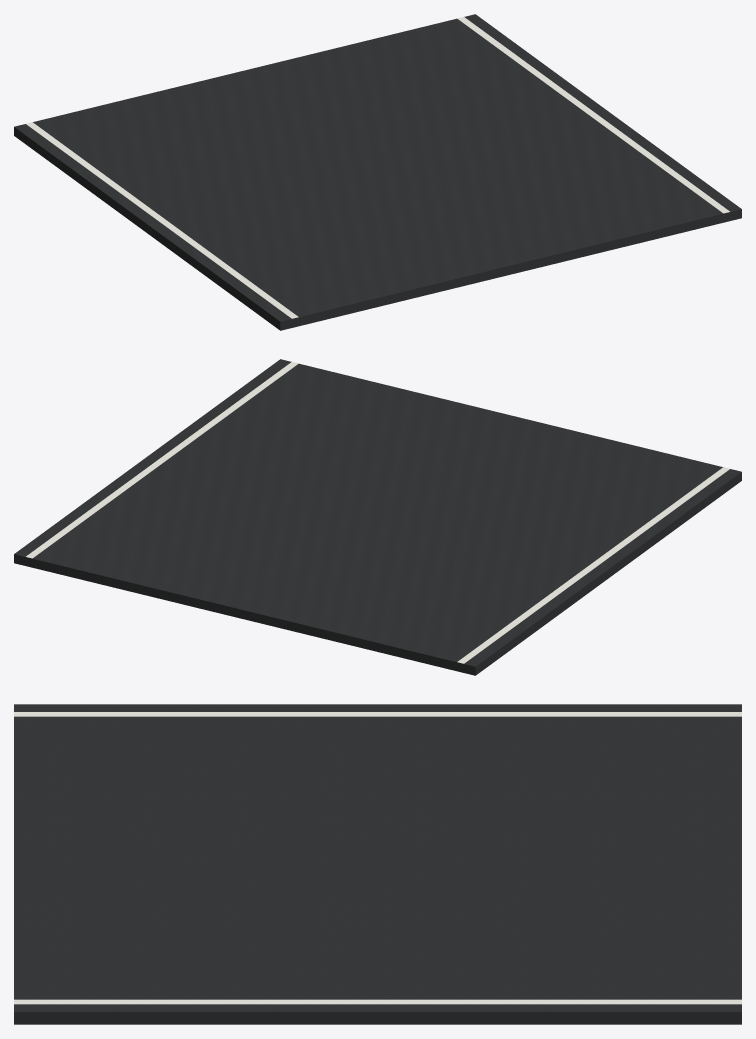
File: OAR_Road_Straight_Plain_8m.fbx
The picture shows the model from 3 angles, top to bottom: view 1: azimuth 30°, elevation 25°; view 2: azimuth 150°, elevation 25°; view 3: azimuth 270°, elevation 25°; orthographic projection. The views are drawn at different scales.
Visible parts, largest first — view 1: Body, Markings.009_Mesh; view 2: Body, Markings.009_Mesh; view 3: Body, Markings.009_Mesh.
Part boxes in pixels (bbox=[...]): Body: bbox=[14, 14, 741, 330]; Markings.009_Mesh: bbox=[26, 17, 729, 318]; Body: bbox=[14, 359, 741, 675]; Markings.009_Mesh: bbox=[26, 362, 729, 663]; Body: bbox=[14, 704, 741, 1024]; Markings.009_Mesh: bbox=[14, 712, 741, 1004].
Bounding box in the file's own units: 8 × 0.153 × 8.
